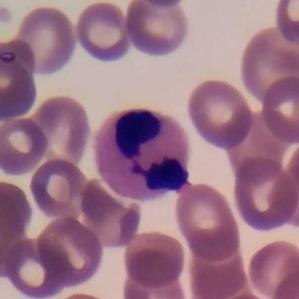Neutrophil: (87, 101, 196, 204)
RBC: (172, 180, 243, 263), (34, 214, 106, 289), (24, 91, 94, 168), (230, 156, 299, 234), (236, 22, 299, 106), (185, 76, 256, 150), (11, 3, 78, 78), (78, 177, 143, 250), (226, 110, 288, 186), (1, 235, 72, 298), (121, 227, 188, 290), (122, 0, 192, 59), (185, 237, 250, 299), (27, 156, 89, 219), (72, 0, 133, 64), (0, 38, 40, 124), (245, 237, 299, 299), (0, 115, 50, 178), (258, 73, 299, 145), (0, 177, 36, 243), (119, 267, 190, 299), (273, 160, 298, 235), (272, 0, 299, 48), (270, 267, 299, 299), (286, 136, 299, 203), (204, 290, 282, 299), (47, 290, 120, 299), (132, 0, 194, 8)
